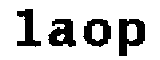1: (13, 8, 43, 52)
a: (49, 17, 76, 52)
o: (81, 17, 111, 48)
p: (114, 12, 146, 60)
